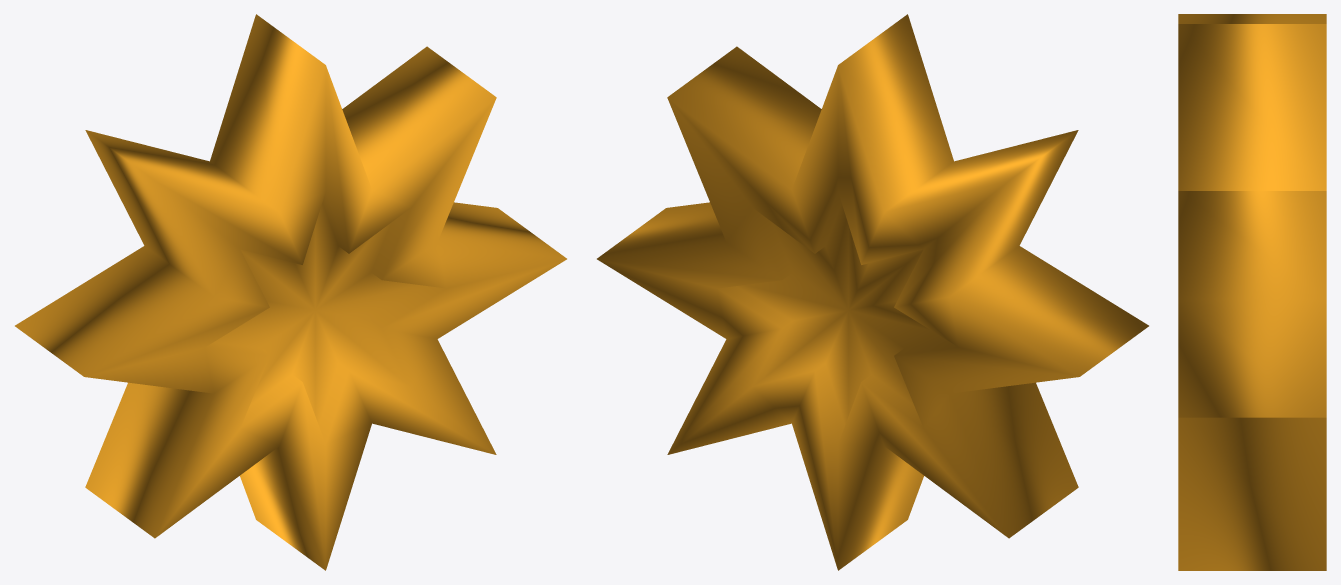
File: 02-STAR-08.fbx
The picture shows the model from 3 angles, left to right: view 1: azimuth 30°, elevation 25°; view 2: azimuth 150°, elevation 25°; view 3: azimuth 270°, elevation 25°; orthographic projection. The views are drawn at different scales.
Visible parts, largest first — view 1: 02-STAR-08; view 2: 02-STAR-08; view 3: 02-STAR-08.
Part boxes in pixels (<box>): 02-STAR-08: <box>15,14,566,570</box>; 02-STAR-08: <box>597,14,1148,570</box>; 02-STAR-08: <box>1178,14,1326,570</box>.
Size of the model in its own units: 400 by 400 by 100.
